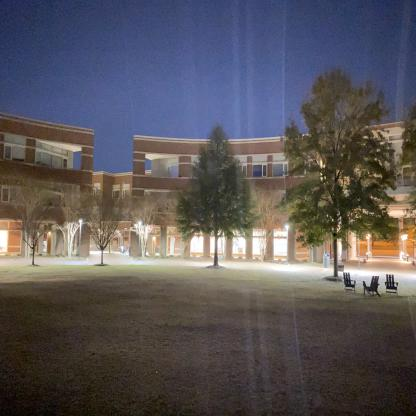eb2: (128, 121, 415, 274)
